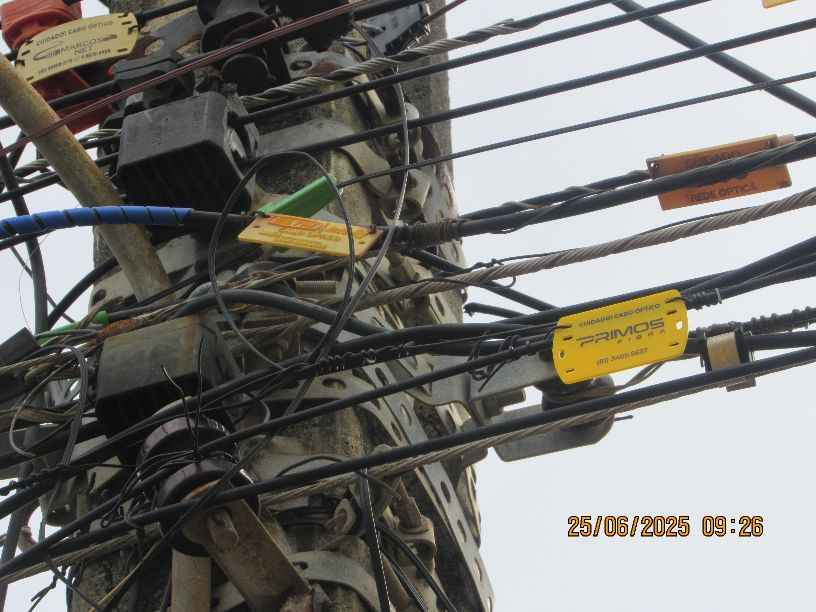fibra_optica: (151, 59, 689, 203), (216, 293, 764, 408), (588, 130, 808, 232), (207, 207, 512, 278), (1, 8, 288, 67)
